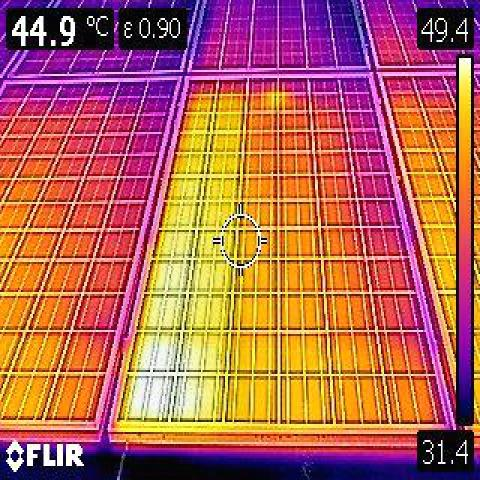fault: (117, 78, 247, 422)
